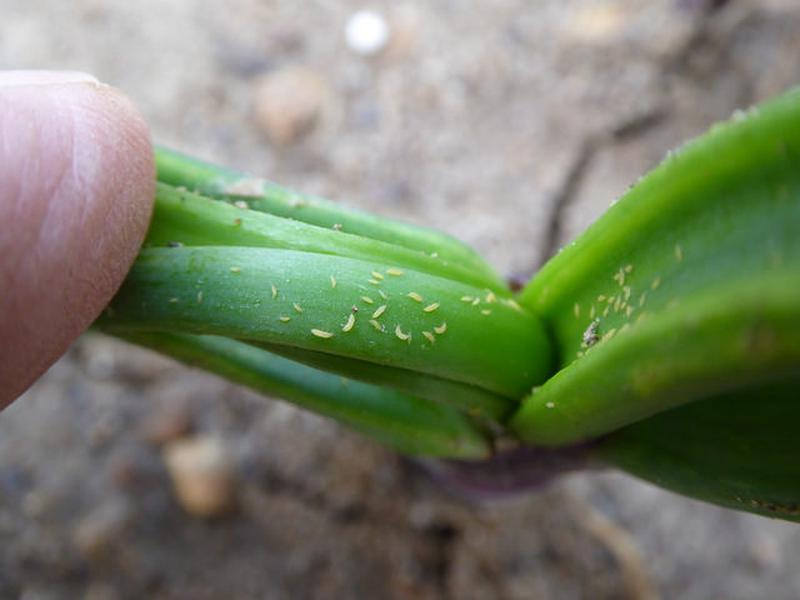Thrips: (265, 229, 642, 381)
